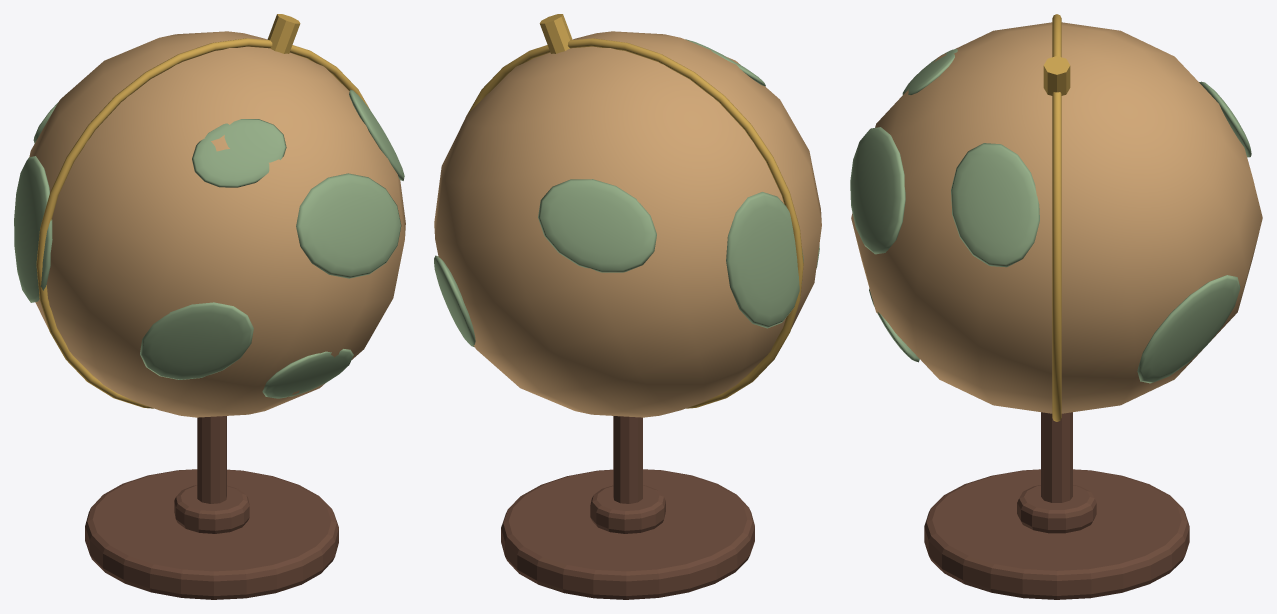
File: hh_cat_globe_v.glb
The picture shows the model from 3 angles, left to right: view 1: azimuth 30°, elevation 25°; view 2: azimuth 150°, elevation 25°; view 3: azimuth 270°, elevation 25°; orthographic projection. The views are drawn at different scales.
Visible parts, largest first — view 1: globe, stand_base, land, land.001, meridian, land.004, land.005, stand_collar, stand_stem, land.002, land.003, pivot; view 2: globe, stand_base, land.007, land.005, meridian, stand_collar, stand_stem, land.006, pivot; view 3: globe, stand_base, land.003, land, land.006, meridian, stand_collar, stand_stem, pivot, land.004, land.007.
Part boxes in pixels (x1,y1,x2,y2): globe: [29, 31, 405, 417]; stand_base: [85, 469, 338, 599]; land: [296, 173, 401, 278]; land.001: [140, 302, 253, 379]; meridian: [36, 38, 369, 408]; land.004: [192, 119, 286, 187]; land.005: [14, 156, 52, 302]; stand_collar: [174, 485, 249, 533]; stand_stem: [197, 416, 226, 503]; land.002: [262, 349, 353, 398]; land.003: [349, 89, 404, 180]; pivot: [267, 14, 300, 53]; globe: [434, 31, 821, 417]; stand_base: [501, 469, 754, 599]; land.007: [538, 179, 656, 272]; land.005: [726, 192, 803, 328]; meridian: [465, 38, 803, 408]; stand_collar: [590, 485, 665, 533]; stand_stem: [613, 416, 642, 503]; land.006: [434, 255, 475, 347]; pivot: [539, 14, 572, 53]; globe: [851, 22, 1262, 413]; stand_base: [924, 469, 1189, 599]; land.003: [951, 143, 1039, 267]; land: [850, 127, 905, 254]; land.006: [1137, 275, 1240, 383]; meridian: [1052, 14, 1061, 421]; stand_collar: [1017, 485, 1096, 533]; stand_stem: [1041, 412, 1072, 502]; pivot: [1043, 56, 1070, 95]; land.004: [902, 49, 957, 94]; land.007: [1199, 81, 1251, 157].
Size of the model in its own units: 0.32 by 0.45 by 0.32.
